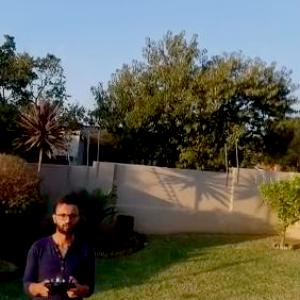follow: (18, 191, 99, 299)
